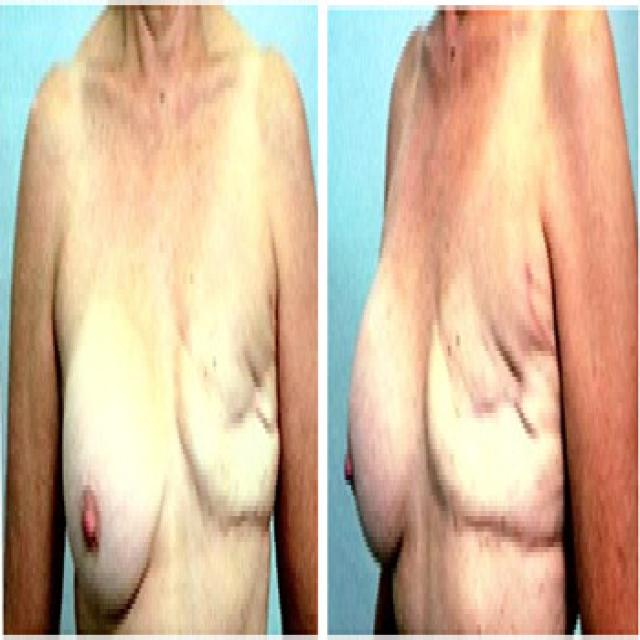Seno herido: (424, 236, 569, 584), (174, 269, 284, 550)
Seno ileso: (59, 293, 171, 633), (340, 218, 422, 598)
